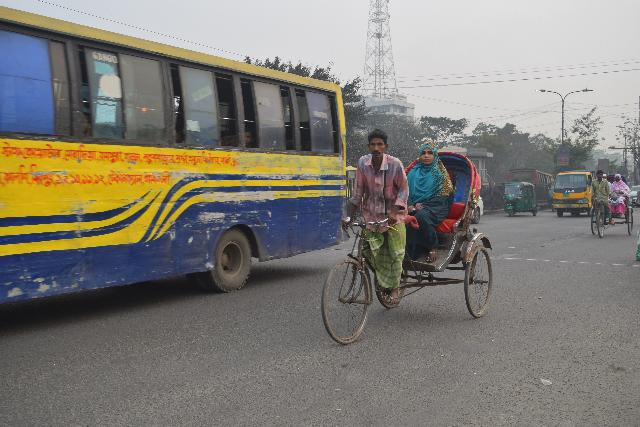bus: (3, 7, 359, 265), (510, 169, 562, 199)
truck: (548, 172, 594, 223)
